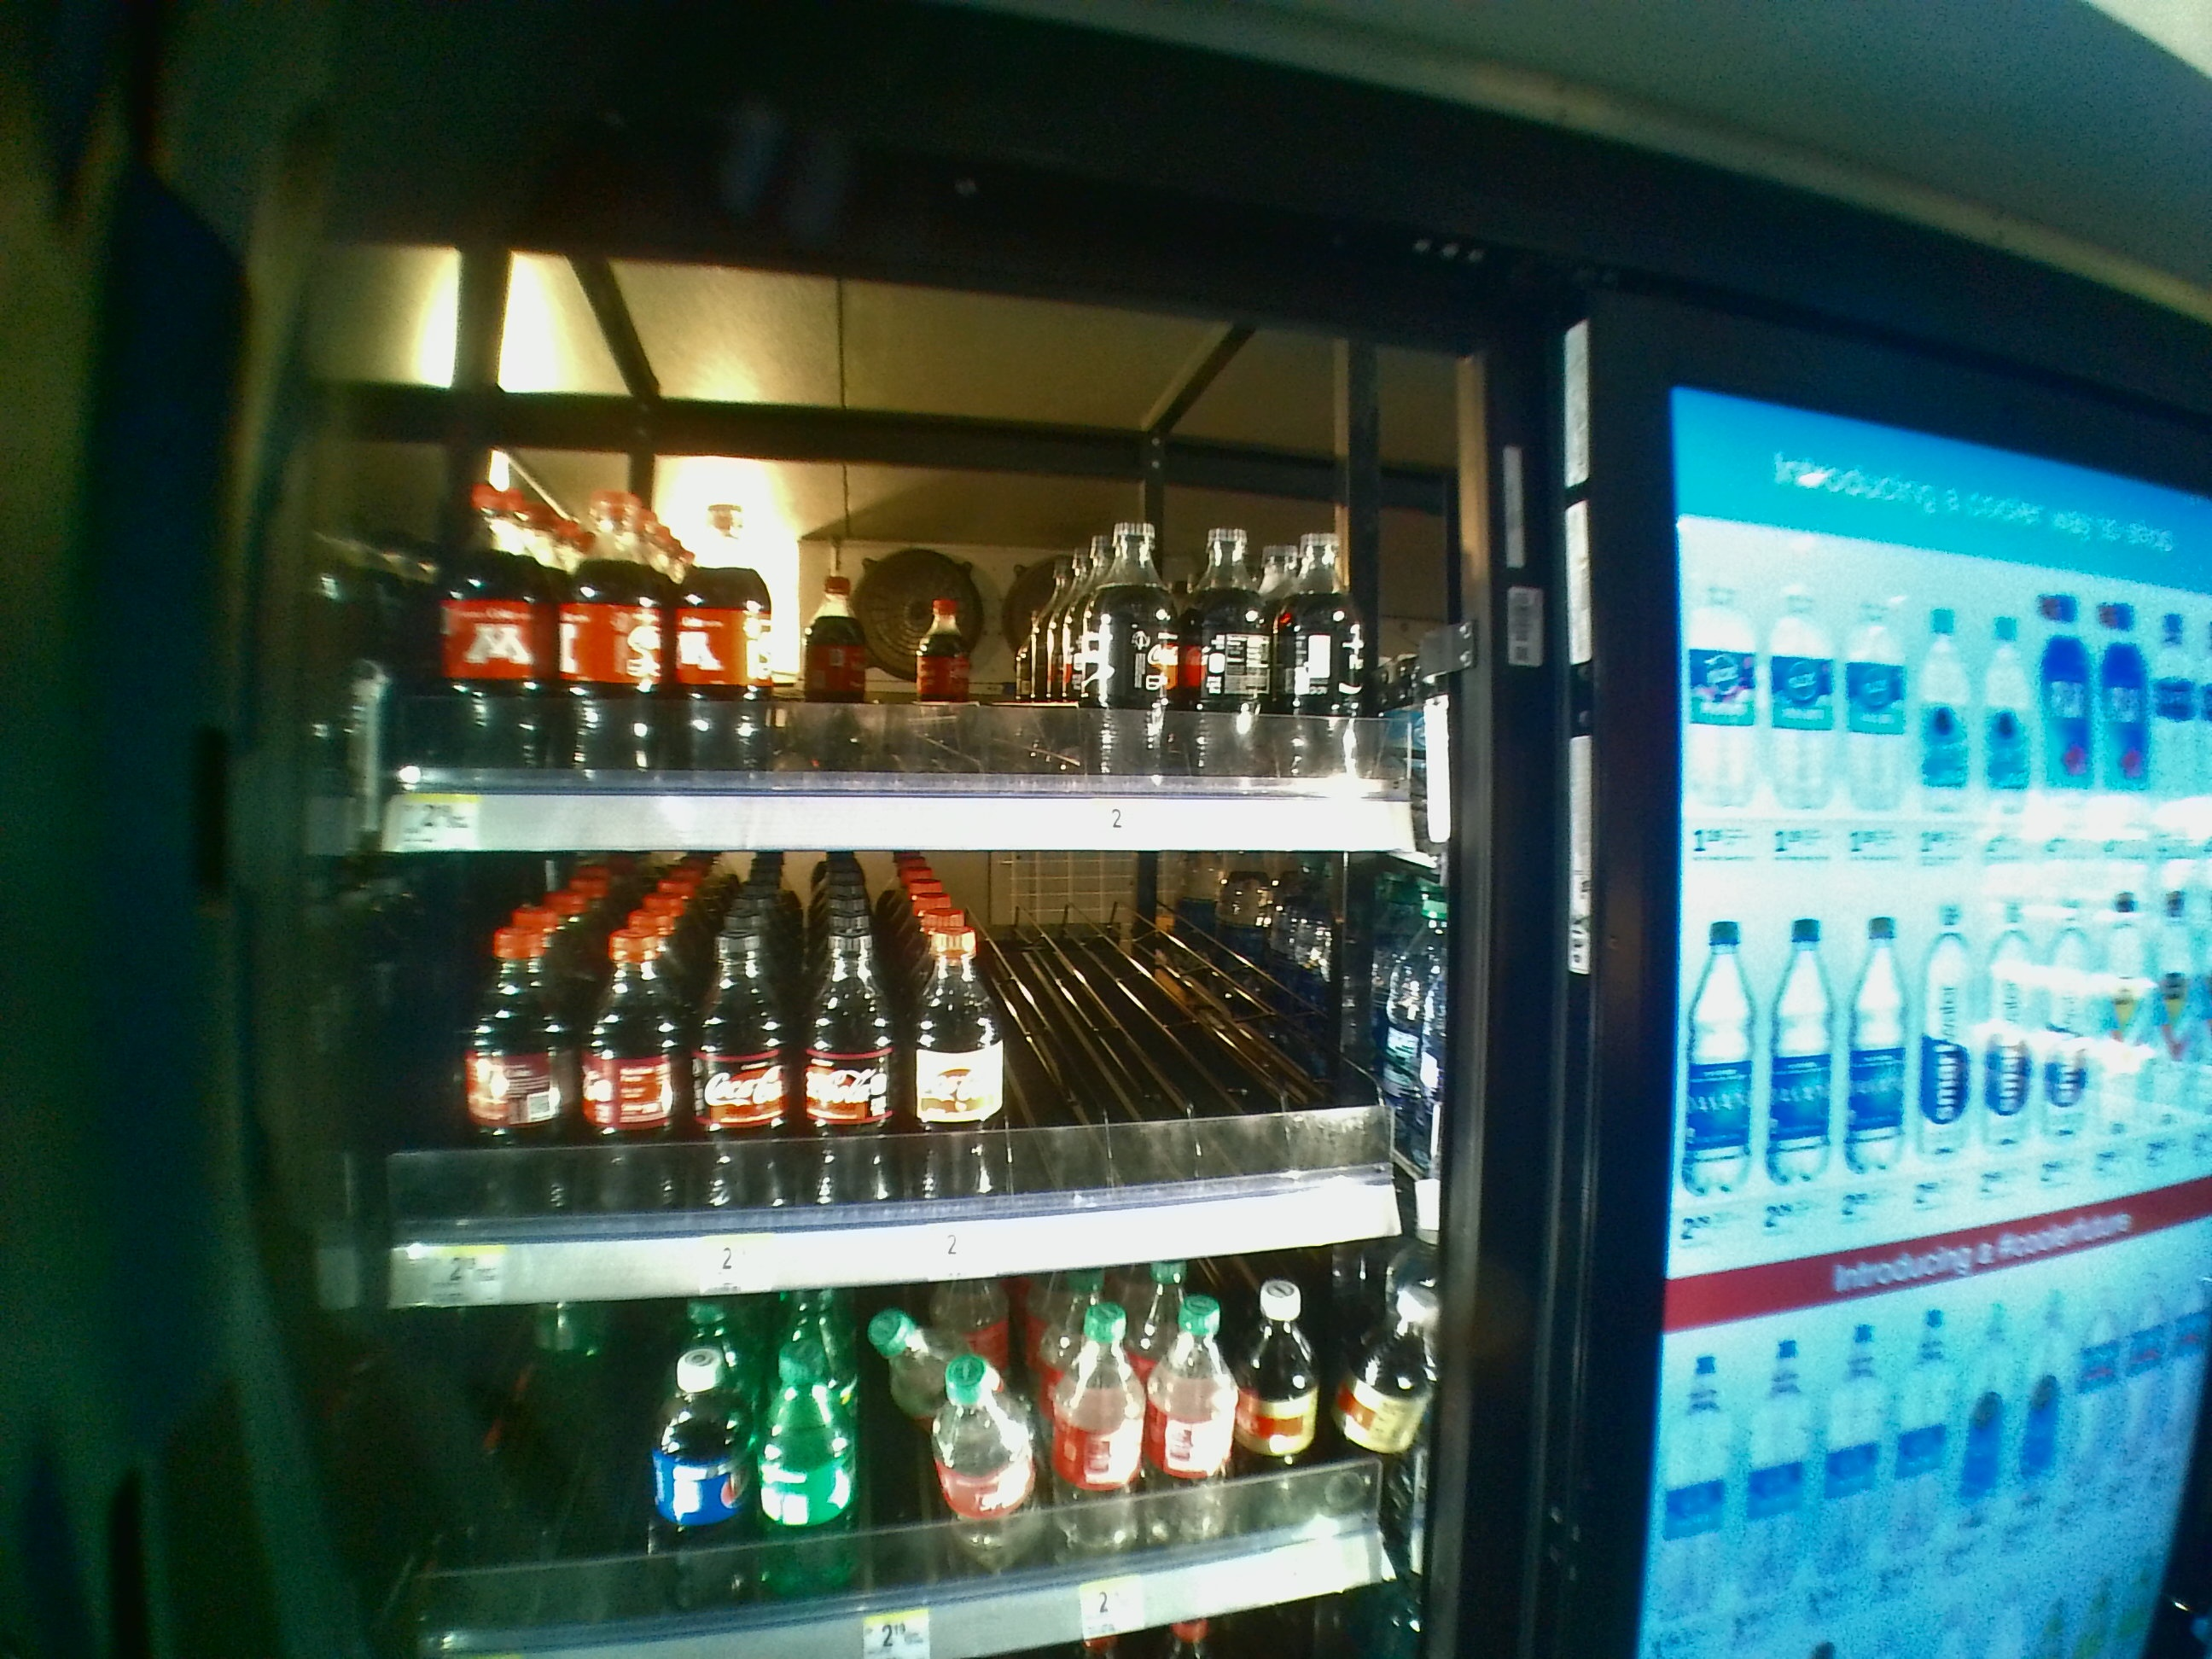shelf: (383, 375, 1418, 854), (387, 871, 1428, 1303)
